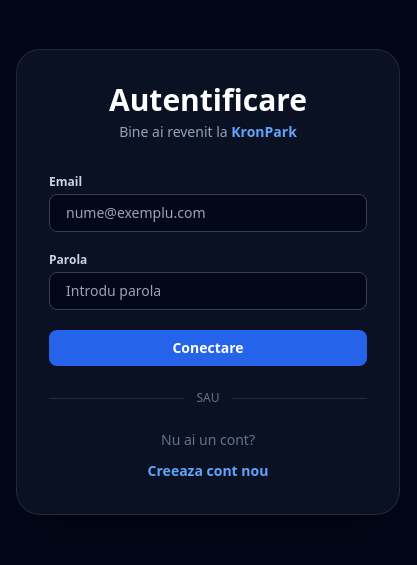
Scenario: Login Page › displays error message when login fails
The width and height of the screenshot is (417, 565).
// Fill and submit form
Type "wrong@test.com" into the field with placeholder "nume@exemplu.com". click: (208, 213)
box: [49, 194, 367, 232]
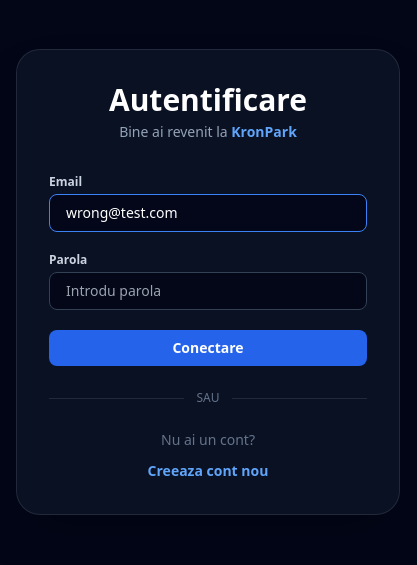
Type "wrongpassword" into the password field with placeholder "Introdu parola". click: (208, 291)
box: [49, 272, 367, 310]
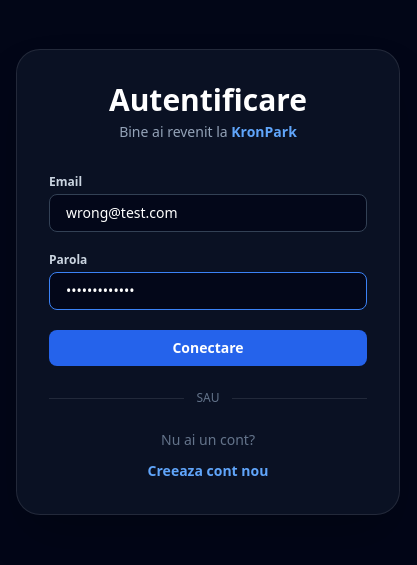
Click the button "Conectare". click: (208, 348)
box: [49, 330, 367, 366]
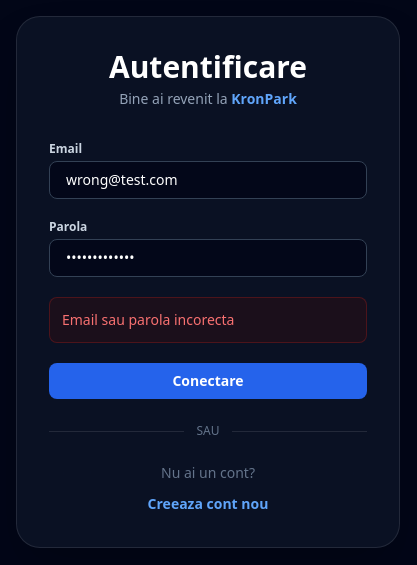
Result: the text "Email sau parola incorecta" is shown at [49, 297, 367, 343]
